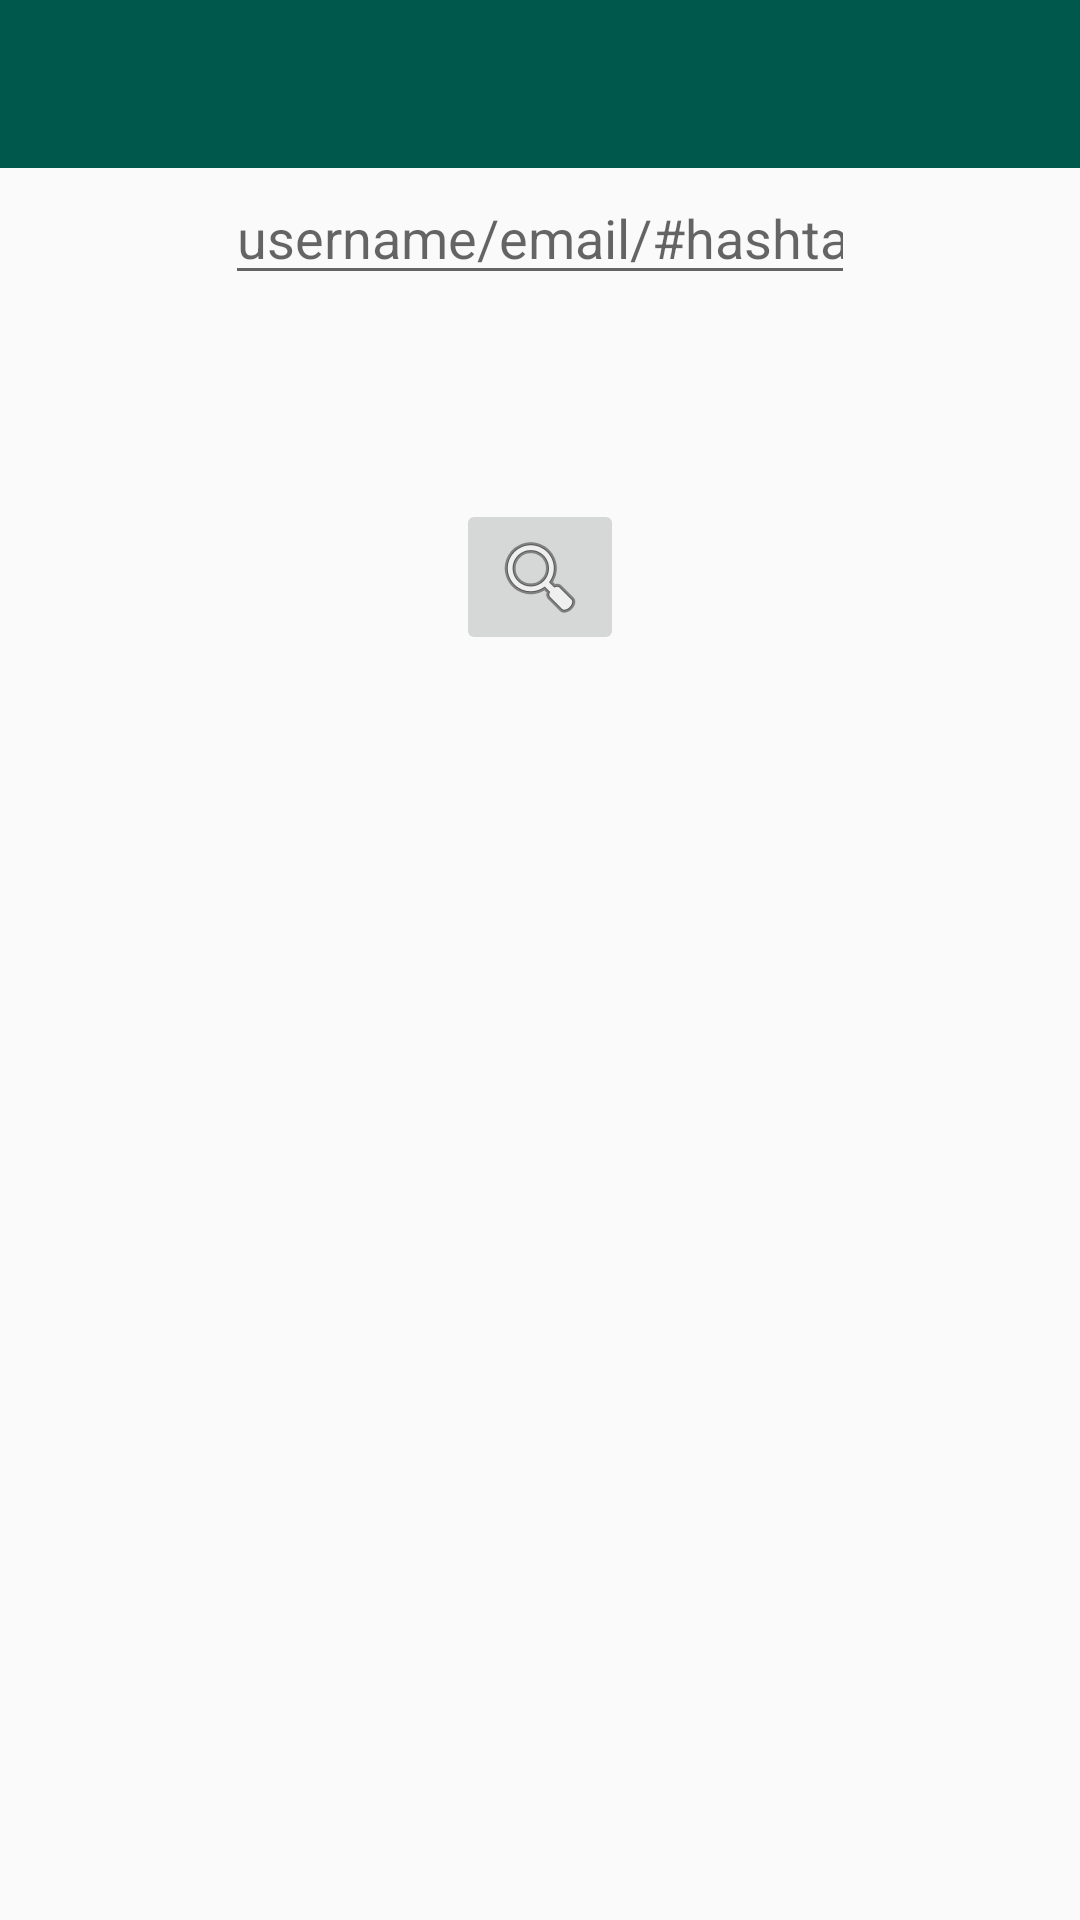

Screen size 1080 x 1920. Icon name, then its center in pixels as [x,y]:
search: [540,577]
